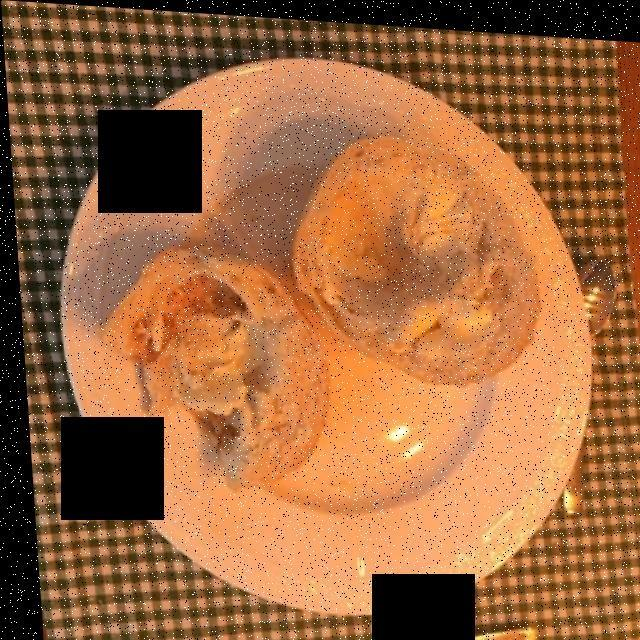bread: (87, 128, 541, 483)
